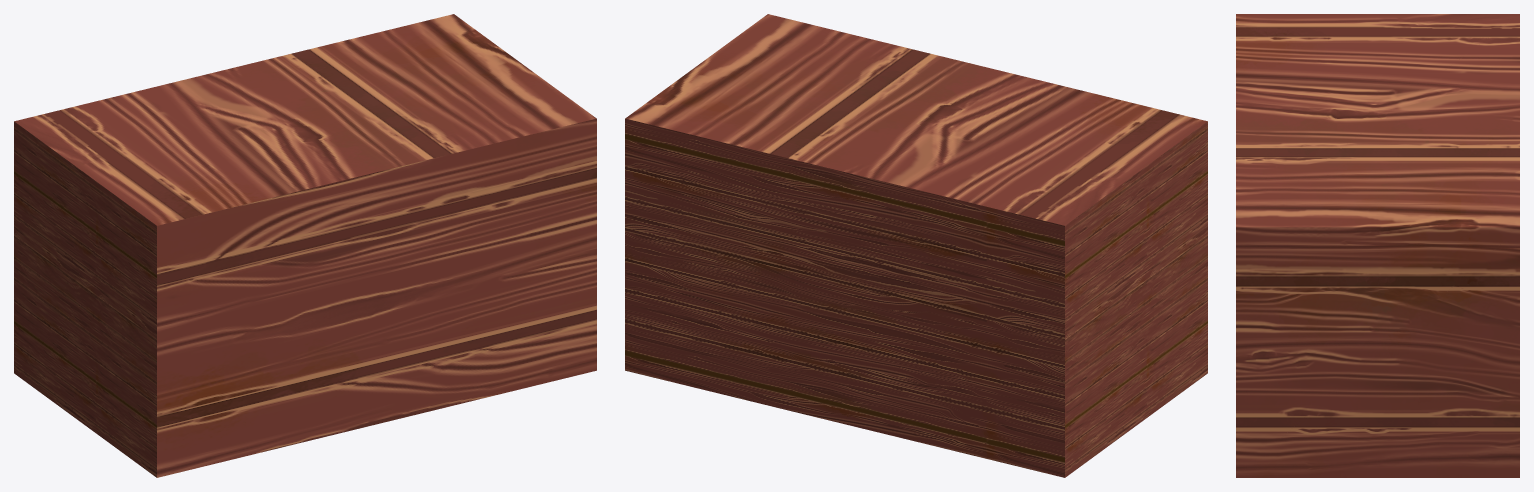
3 views of the same model, side by side, from view 1: azimuth 30°, elevation 25°; view 2: azimuth 150°, elevation 25°; view 3: azimuth 270°, elevation 25° (orthographic).
Parts seen in each view (by area): view 1: Cube.862; view 2: Cube.862; view 3: Cube.862.
Boxes of the visible parts, x1,y1,x2,y2 form: Cube.862: (14, 14, 596, 477); Cube.862: (625, 14, 1207, 477); Cube.862: (1236, 14, 1519, 477).
Bounding box in the file's own units: 646 × 354 × 363.
1 material, 1 textured.
